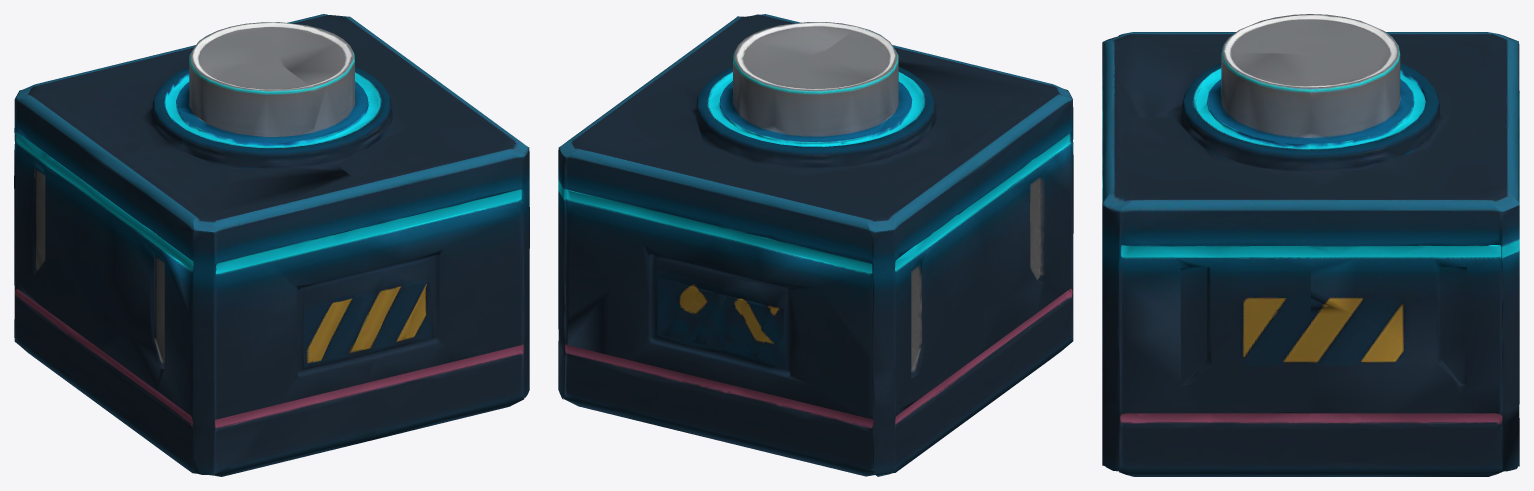
File: Button.fbx
3 views of the same model, side by side, from view 1: azimuth 30°, elevation 25°; view 2: azimuth 150°, elevation 25°; view 3: azimuth 270°, elevation 25° (orthographic). The views are drawn at different scales.
Visible parts, largest first — view 1: tripo_node_294b3eb3; view 2: tripo_node_294b3eb3; view 3: tripo_node_294b3eb3.
Boxes of the visible parts, x1,y1,x2,y2 form: tripo_node_294b3eb3: [14, 14, 529, 476]; tripo_node_294b3eb3: [558, 14, 1073, 476]; tripo_node_294b3eb3: [1102, 14, 1519, 476].
Bounding box in the file's own units: 1 × 0.9059 × 0.9999.
1 material, 1 textured.
